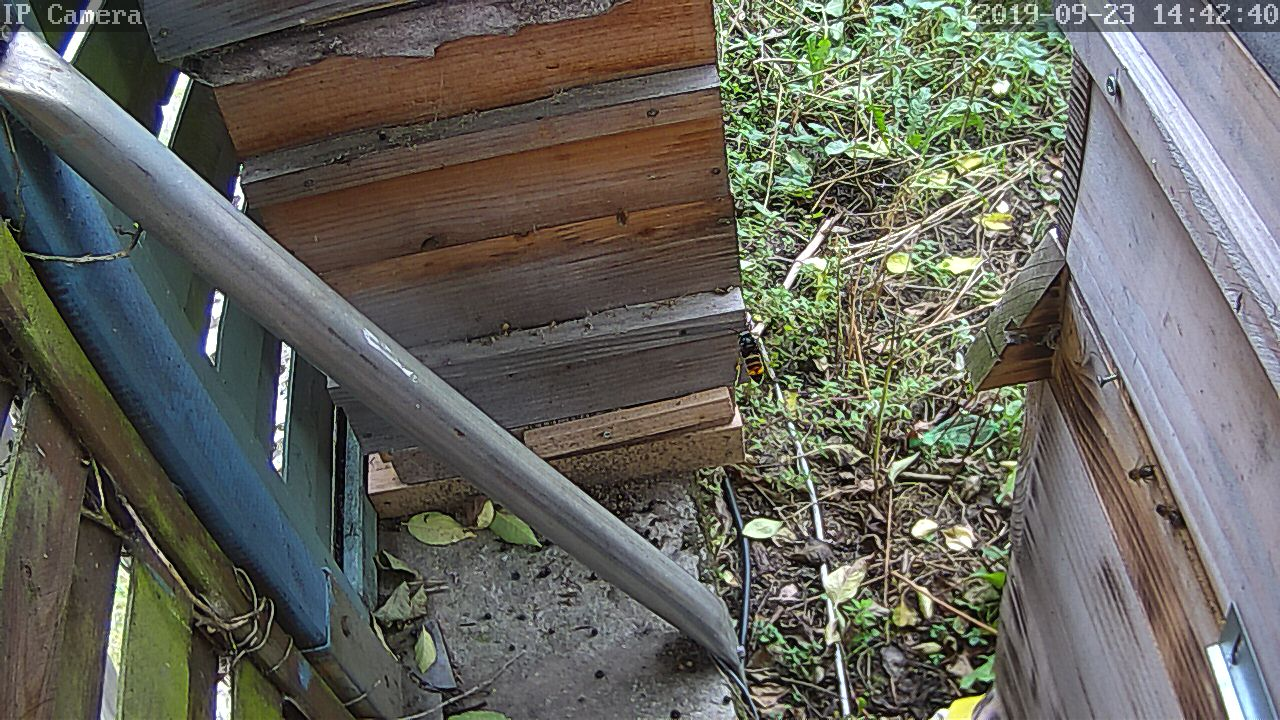bee: (1157, 497, 1196, 533), (1131, 455, 1167, 485)
hornet: (730, 335, 777, 389)
